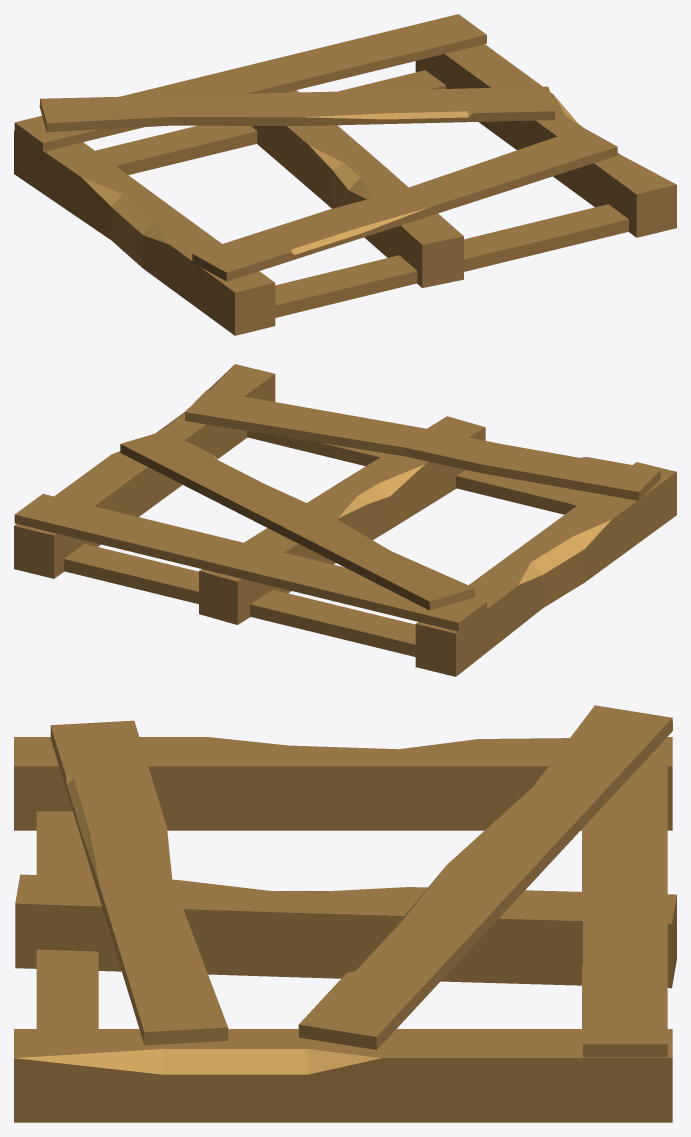
The model's file is Pallet_Broken.glb.
3 views of the same model, one above another, from view 1: azimuth 30°, elevation 25°; view 2: azimuth 150°, elevation 25°; view 3: azimuth 270°, elevation 25° (orthographic). The views are drawn at different scales.
Parts seen in each view (by area): view 1: Pallet_Broken; view 2: Pallet_Broken; view 3: Pallet_Broken.
Part boxes in pixels (bbox=[...]): Pallet_Broken: bbox=[14, 14, 676, 335]; Pallet_Broken: bbox=[14, 364, 676, 676]; Pallet_Broken: bbox=[14, 705, 676, 1122].
Size of the model in its own units: 1.69 by 0.2507 by 1.47.
